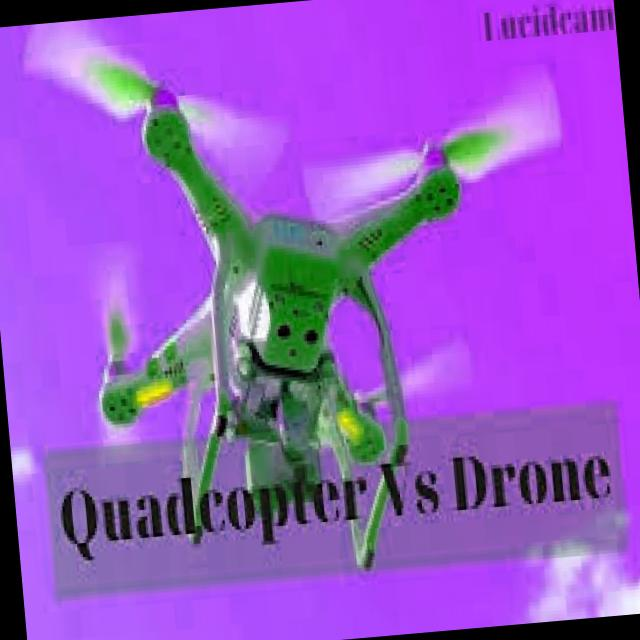drone: (13, 0, 598, 601)
